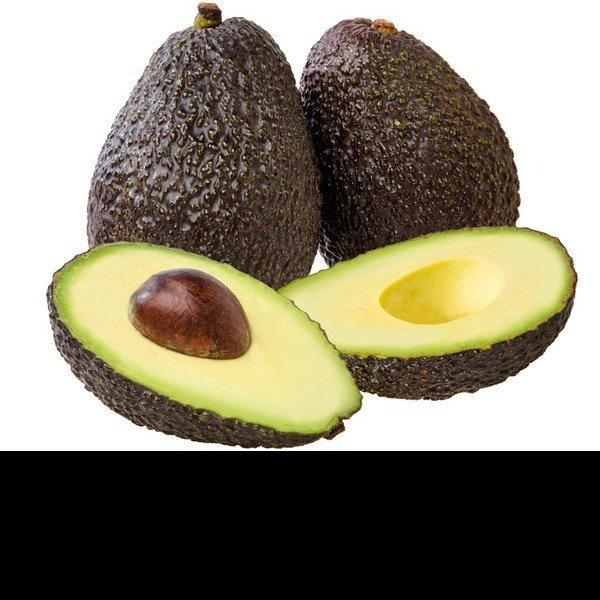ripe: (87, 2, 322, 291), (300, 18, 522, 268)
